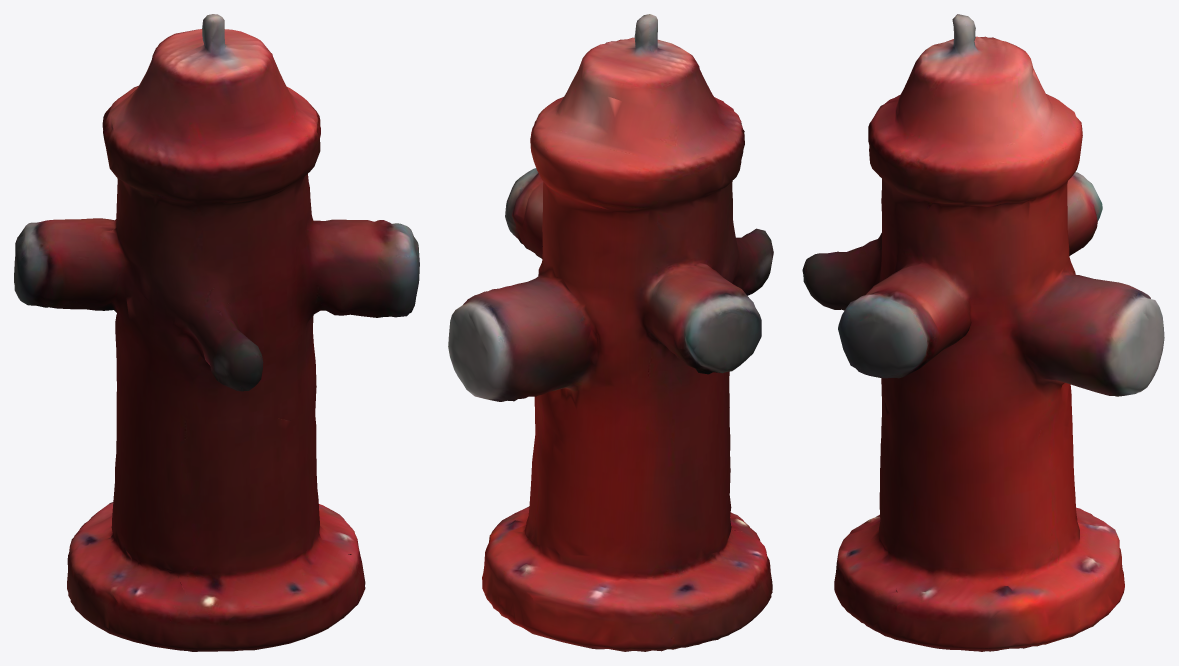
File: gen_hydrant_photo.mobile-mid.glb
3 renders of one model, left to right at view 1: azimuth 30°, elevation 25°; view 2: azimuth 150°, elevation 25°; view 3: azimuth 270°, elevation 25°, orthographic. The views are drawn at different scales.
Visible parts, largest first — view 1: gen_hydrant_photo; view 2: gen_hydrant_photo; view 3: gen_hydrant_photo.
Boxes of the visible parts, x1=… form: gen_hydrant_photo: x1=14, y1=14, x2=419, y2=651; gen_hydrant_photo: x1=448, y1=14, x2=773, y2=651; gen_hydrant_photo: x1=802, y1=14, x2=1164, y2=651.
Size of the model in its own units: 0.455 by 0.8 by 0.4532.
1 material, 1 textured.
